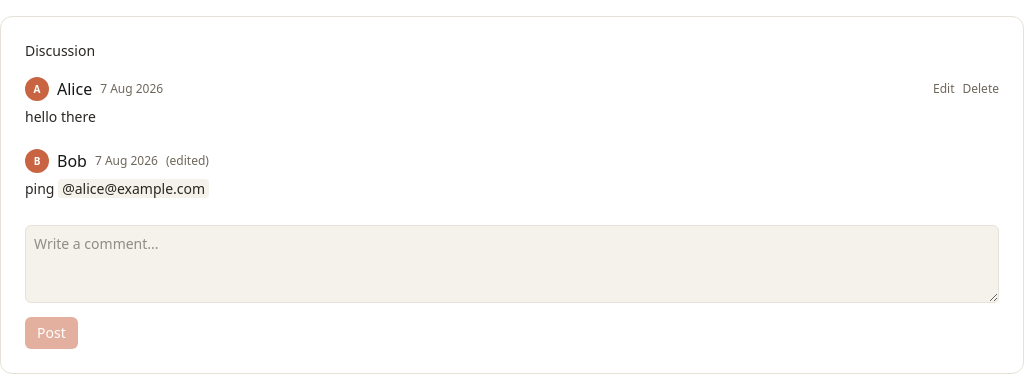
TaskComments › keeps the draft and shows an error when the post fails
The image size is (1024, 391).
Type "my reply" into the text box with placeholder "Write a comment..." at (512, 264), box x1=25 y1=225 x2=999 y2=303
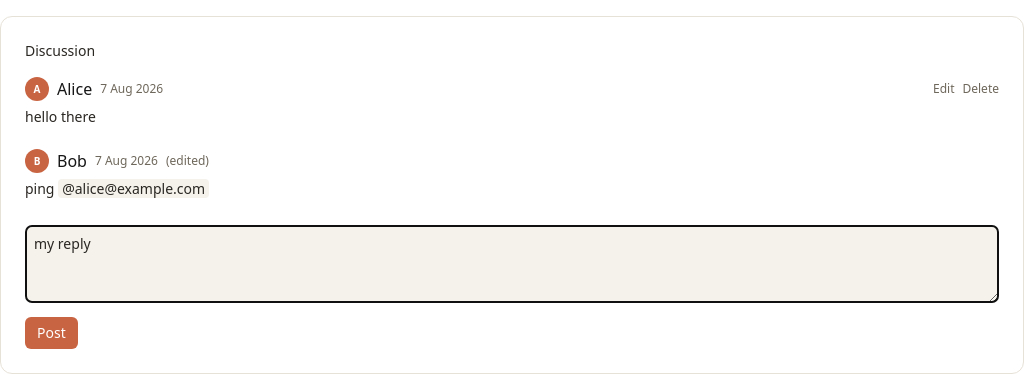
Click the button "Post" at (51, 333), box x1=25 y1=317 x2=78 y2=349
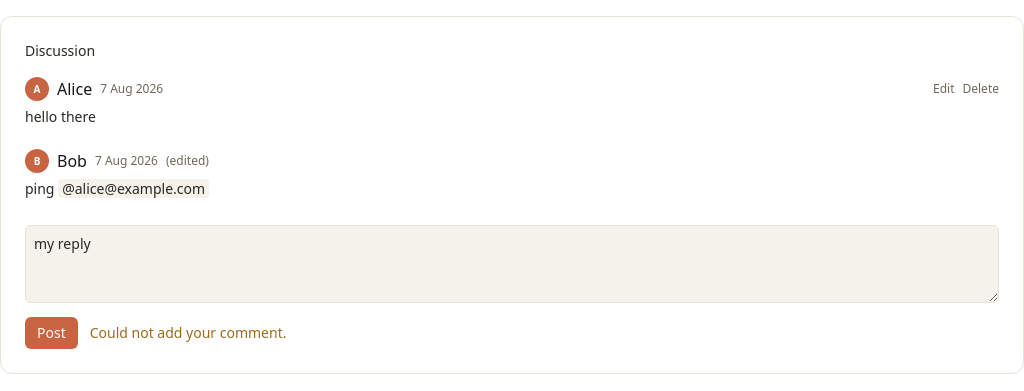
Now the text "Could not add your comment." is shown, box x1=90 y1=323 x2=286 y2=343
